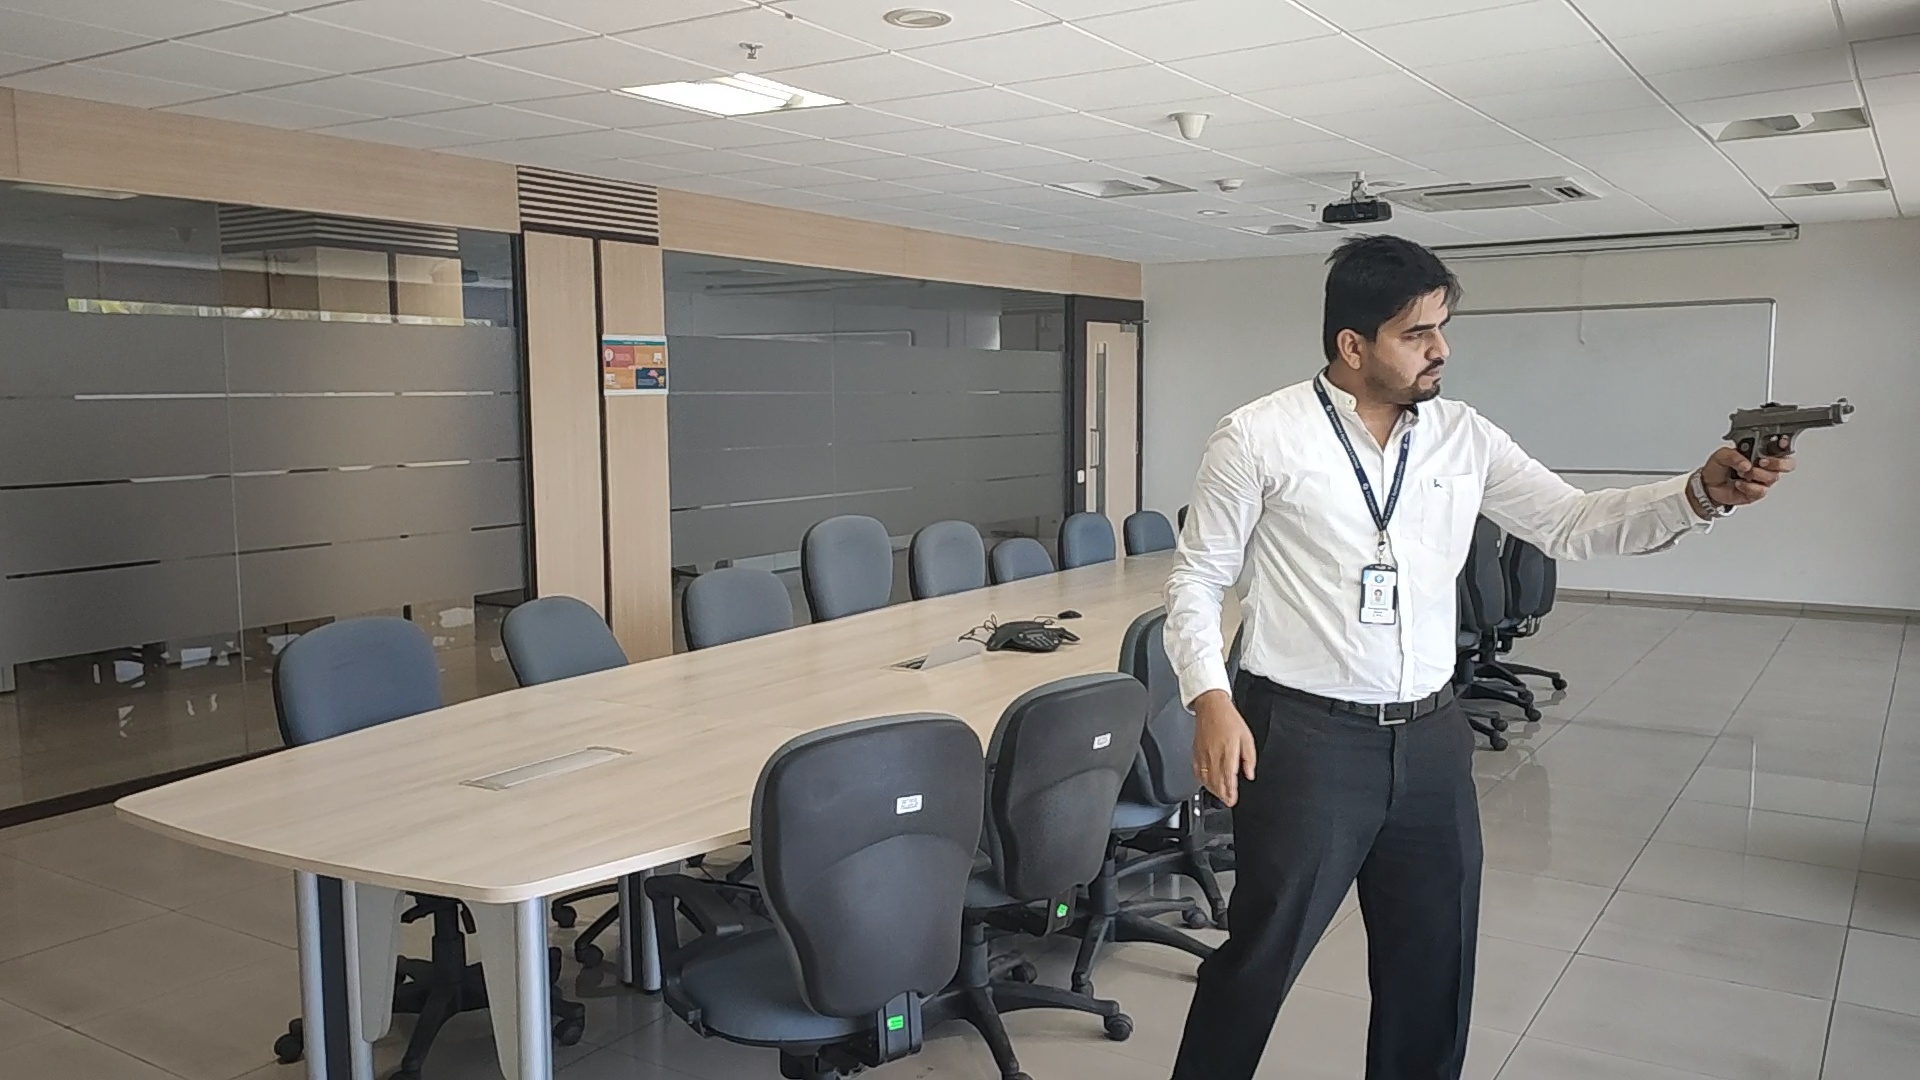gun: (1721, 398, 1855, 444)
